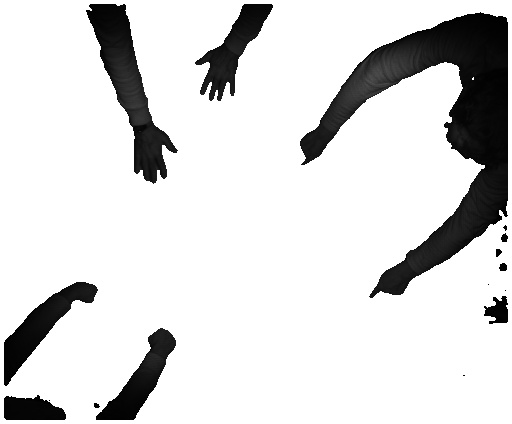fist: (148, 328, 175, 359), (75, 280, 103, 303)
hand: (134, 130, 183, 183), (192, 50, 240, 103), (368, 268, 411, 303), (296, 129, 327, 167)
